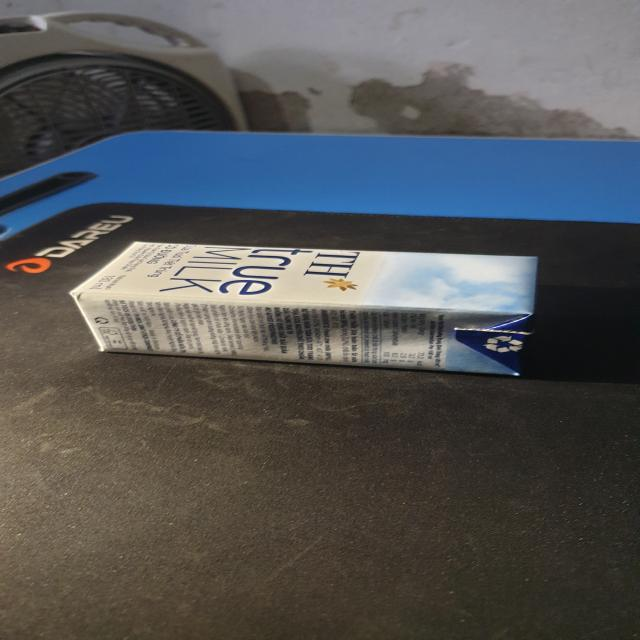TH: (70, 241, 540, 375)
